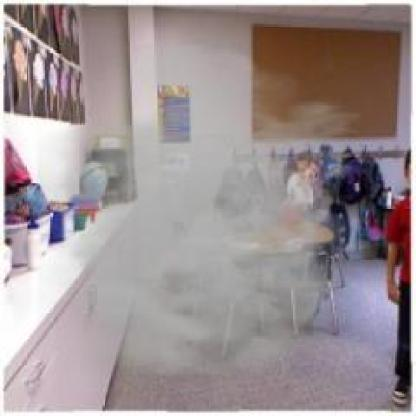Smoke: (37, 44, 396, 396)
